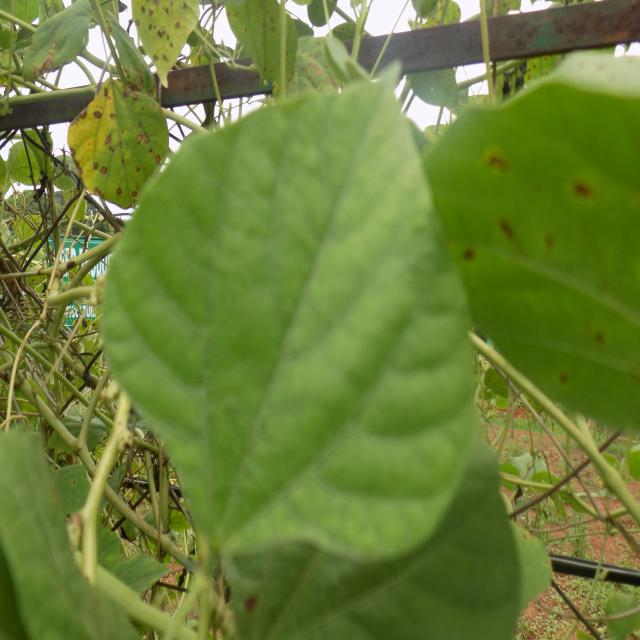Dolicos bean_cercospora leaf spot: (70, 80, 171, 206)
Dolicos bean_healthy: (96, 67, 495, 560)
